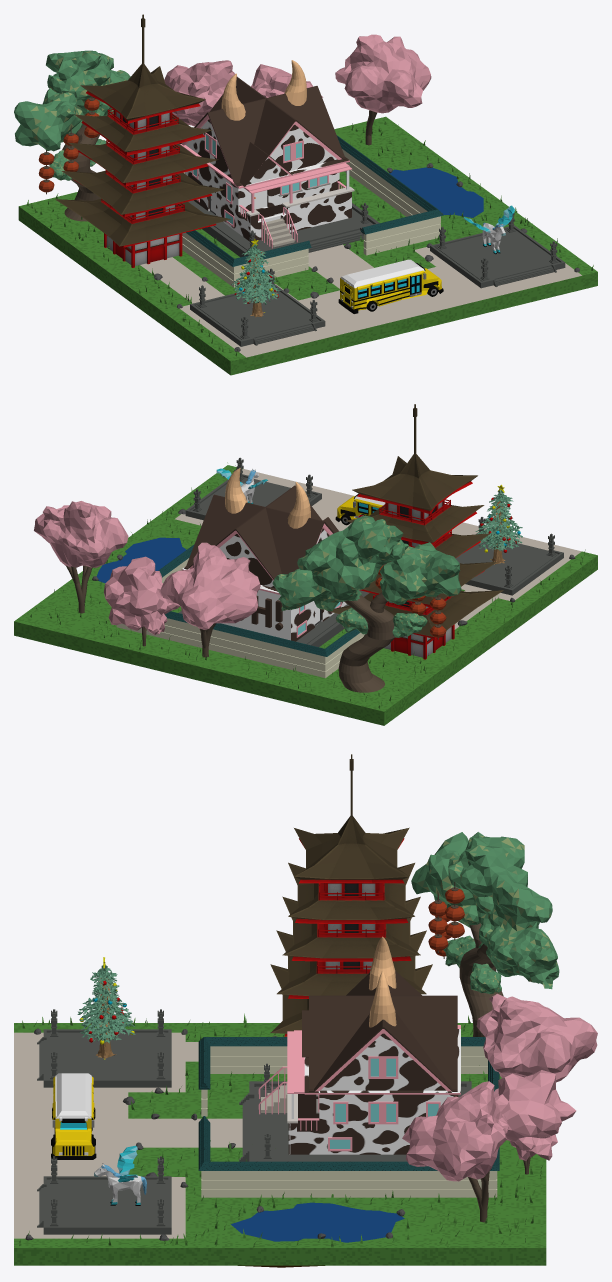
The picture shows the model from 3 angles, top to bottom: view 1: azimuth 30°, elevation 25°; view 2: azimuth 150°, elevation 25°; view 3: azimuth 270°, elevation 25°; orthographic projection. The views are drawn at different scales.
Visible parts, largest first — view 1: Cube.005, Cube.1242, VEHICLES_SCHOOL_BUS, OBJRANDOM_CHRISTMAS_TREE, ANIMAL_PEGASO; view 2: Cube.005, Cube.1242, OBJRANDOM_CHRISTMAS_TREE, VEHICLES_SCHOOL_BUS, ANIMAL_PEGASO; view 3: Cube.005, Cube.1242, VEHICLES_SCHOOL_BUS, OBJRANDOM_CHRISTMAS_TREE, ANIMAL_PEGASO.
Part boxes in pixels (left/top/right/bottom): Cube.005: left=14, top=14, right=597, bottom=375; Cube.1242: left=179, top=60, right=354, bottom=248; VEHICLES_SCHOOL_BUS: left=338, top=259, right=443, bottom=313; OBJRANDOM_CHRISTMAS_TREE: left=231, top=239, right=280, bottom=317; ANIMAL_PEGASO: left=463, top=205, right=514, bottom=254; Cube.005: left=14, top=404, right=597, bottom=725; Cube.1242: left=181, top=468, right=346, bottom=641; OBJRANDOM_CHRISTMAS_TREE: left=475, top=484, right=522, bottom=564; VEHICLES_SCHOOL_BUS: left=335, top=493, right=385, bottom=525; ANIMAL_PEGASO: left=216, top=468, right=267, bottom=503; Cube.005: left=14, top=754, right=597, bottom=1265; Cube.1242: left=258, top=936, right=460, bottom=1154; VEHICLES_SCHOOL_BUS: left=51, top=1073, right=96, bottom=1159; OBJRANDOM_CHRISTMAS_TREE: left=77, top=957, right=135, bottom=1059; ANIMAL_PEGASO: left=94, top=1145, right=146, bottom=1205.
Bounding box in the file's own units: 4528 × 2756 × 4389.
51 materials, 5 textured.
